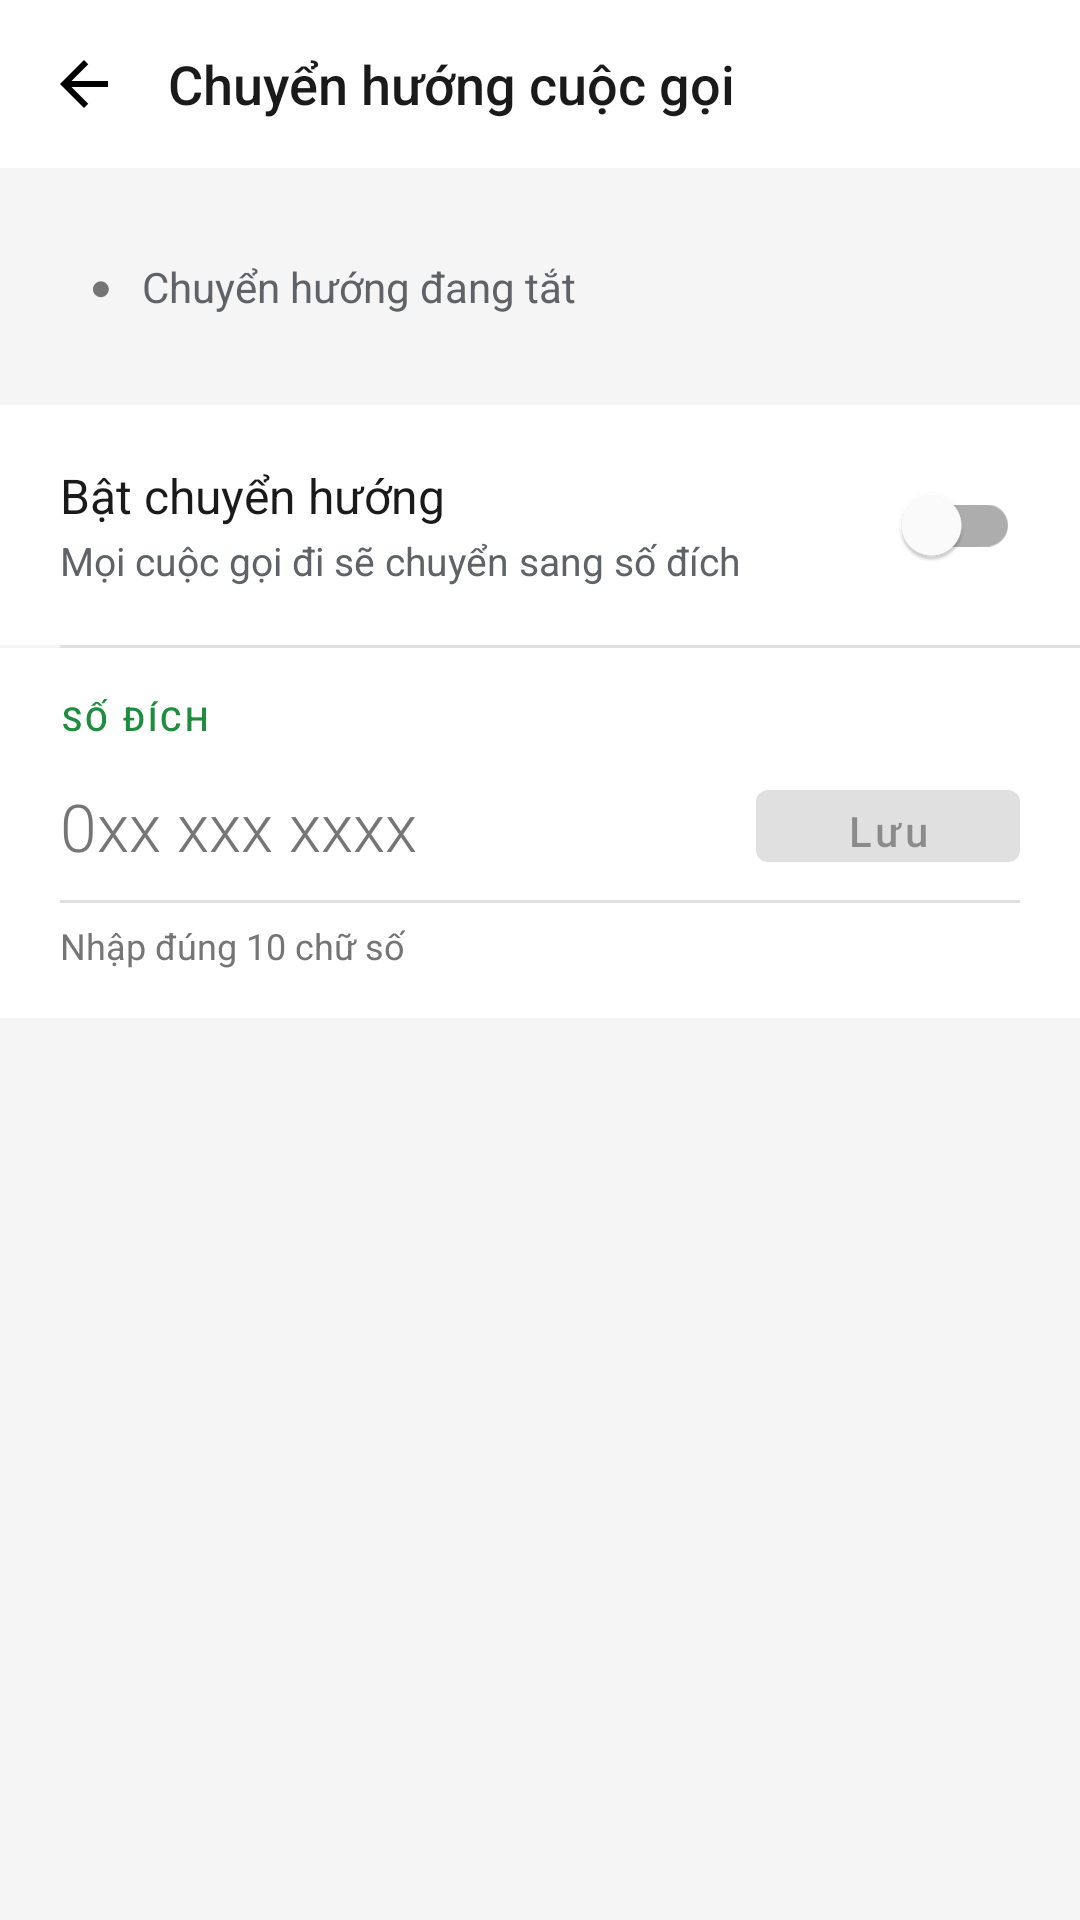

Named icons in this screenshot (1080w x 1920h) and their bounding boxes, (x1, y1, x2, y2):
Quay lại: (60, 60, 108, 108)
